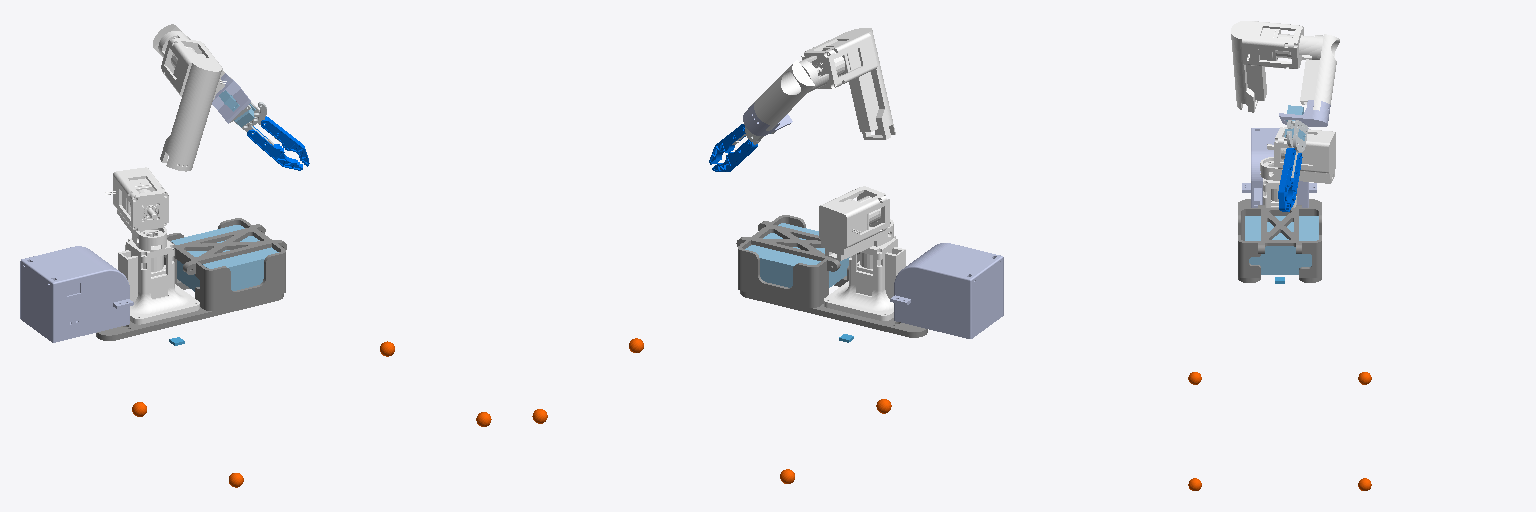
--- Render facts (derived) ---
3 views of the same robot in one strip: view 1: azimuth 30°, elevation 25°; view 2: azimuth 150°, elevation 25°; view 3: azimuth 270°, elevation 25° (orthographic).
Model robot with 23 links and 22 joints (12 revolute, 10 fixed), rooted at base, posed joints at zero except 4 at the middle of their limits (RF_KFE = -1.85, LF_KFE = -1.85, RH_KFE = -1.85, LH_KFE = -1.85).
Visible links, largest first — view 1: arm, link2, link1, gripper, link3; view 2: arm, link2, link1, link3, gripper; view 3: arm, link2, link3, link1, gripper.
Link boxes in pixels (left/top/right/bottom): arm: left=20, top=218, right=286, bottom=342; link2: left=160, top=37, right=226, bottom=171; link1: left=105, top=167, right=168, bottom=251; gripper: left=230, top=102, right=309, bottom=170; link3: left=153, top=24, right=250, bottom=123; arm: left=736, top=215, right=1003, bottom=338; link2: left=801, top=28, right=895, bottom=139; link1: left=819, top=186, right=893, bottom=260; link3: left=743, top=56, right=828, bottom=136; gripper: left=709, top=124, right=775, bottom=171; arm: left=1238, top=128, right=1321, bottom=282; link2: left=1231, top=21, right=1303, bottom=112; link3: left=1279, top=34, right=1339, bottom=126; link1: left=1260, top=127, right=1335, bottom=183; gripper: left=1278, top=120, right=1307, bottom=211.
Size in the robot's own frame: 0.6164 by 0.2735 by 0.5887 metres.
29 mesh visuals loaded from 28 distinct referenced files (22 binary STL); not drawn: 14 (reference not matched to a file when rendering).

The robot description file, URDF, robot "robot":
<?xml version="1.0" ?>
<!-- =================================================================================== -->
<!-- |    This document was autogenerated by xacro from urdf/robot.xacro               | -->
<!-- |    EDITING THIS FILE BY HAND IS NOT RECOMMENDED                                 | -->
<!-- =================================================================================== -->
<robot name="robot">
  <material name="black">
    <color rgba="0.0 0.0 0.0 1.0"/>
  </material>
  <material name="blue">
    <color rgba="0.0 0.0 0.8 1.0"/>
  </material>
  <material name="green">
    <color rgba="0.0 0.8 0.0 1.0"/>
  </material>
  <material name="grey">
    <color rgba="0.2 0.2 0.2 1.0"/>
  </material>
  <material name="silver">
    <color rgba="0.9137254901960784 0.9137254901960784 0.8470588235294118 1.0"/>
  </material>
  <material name="orange">
    <color rgba="1.0 0.4235294117647059 0.0392156862745098 1.0"/>
  </material>
  <material name="brown">
    <color rgba="0.8705882352941177 0.8117647058823529 0.7647058823529411 1.0"/>
  </material>
  <material name="red">
    <color rgba="0.8 0.0 0.0 1.0"/>
  </material>
  <material name="white">
    <color rgba="1.0 1.0 1.0 1.0"/>
  </material>
  <!-- ros_control plugin -->
  <gazebo>
    <plugin filename="liblegged_hw_sim.so" name="gazebo_ros_control">
      <robotNamespace>/</robotNamespace>
      <robotParam>legged_robot_description</robotParam>
      <robotSimType>legged_gazebo/LeggedHWSim</robotSimType>
    </plugin>
  </gazebo>
  <gazebo>
    <plugin filename="libgazebo_ros_p3d.so" name="p3d_base_controller">
      <alwaysOn>true</alwaysOn>
      <updateRate>1000.0</updateRate>
      <bodyName>base</bodyName>
      <topicName>ground_truth/state</topicName>
      <gaussianNoise>0</gaussianNoise>
      <frameName>world</frameName>
      <xyzOffsets>0 0 0</xyzOffsets>
      <rpyOffsets>0 0 0</rpyOffsets>
    </plugin>
  </gazebo>
  <link name="base">
    <visual>
      <origin rpy="0 0 0" xyz="0 0 0"/>
      <geometry>
        <mesh filename="package://biqu_go1_description/go1_meshes/trunk.dae" scale="1 1 1"/>
      </geometry>
    </visual>
    <collision>
      <origin rpy="0 0 0" xyz="0 0 0"/>
      <geometry>
        <box size="0.3762 0.0935 0.114"/>
      </geometry>
    </collision>
    <inertial>
      <origin rpy="0 0 0" xyz="0.0223 0.002 -0.0005"/>
      <mass value="5.204"/>
      <inertia ixx="0.0168128557" ixy="-0.0002296769" ixz="-0.0002945293" iyy="0.063009565" iyz="-4.18731e-05" izz="0.0716547275"/>
    </inertial>
  </link>
  <!-- Imu is fixed to the base link -->
  <joint name="unitree_imu_joint" type="fixed">
    <origin rpy="0. 0. 0." xyz="0. 0. 0."/>
    <parent link="base"/>
    <child link="unitree_imu"/>
  </joint>
  <!-- Imu link -->
  <link name="unitree_imu">
    <inertial>
      <mass value="0.01"/>
      <origin rpy="0 0 0" xyz="0 0 0"/>
      <inertia ixx="0.000001" ixy="0" ixz="0" iyy="0.000001" iyz="0" izz="0.000001"/>
    </inertial>
    <visual>
      <origin rpy="0 0 0" xyz="0 0 0"/>
      <geometry>
        <box size="0.015 0.015 0.004"/>
      </geometry>
    </visual>
    <material name="orange">
      <color rgba="255 108 10 255"/>
    </material>
  </link>
  <gazebo reference="unitree_imu">
    <material>Gazebo/Orange</material>
  </gazebo>
  <gazebo reference="unitree_imu_joint">
    <disableFixedJointLumping>true</disableFixedJointLumping>
  </gazebo>
  <joint name="RF_HAA" type="revolute">
    <origin rpy="0 0 0" xyz="0.1881 -0.04675 0"/>
    <parent link="base"/>
    <child link="RF_hip"/>
    <axis xyz="1 0 0"/>
    <dynamics damping="0.01" friction="0.2"/>
    <limit effort="23.7" lower="-0.863" upper="0.863" velocity="30.1"/>
  </joint>
  <link name="RF_hip">
    <visual>
      <origin rpy="3.141592653589793 0 0" xyz="0 0 0"/>
      <geometry>
        <mesh filename="package://biqu_go1_description/go1_meshes/hip.dae" scale="1 1 1"/>
      </geometry>
      <material name="orange"/>
    </visual>
    <collision>
      <origin rpy="1.5707963267948966 0 0" xyz="0 0 0"/>
      <geometry>
        <cylinder length="0.04" radius="0.046"/>
      </geometry>
    </collision>
    <inertial>
      <origin rpy="0 0 0" xyz="-0.005657 0.008752 -0.000102"/>
      <mass value="0.591"/>
      <inertia ixx="0.000334008405" ixy="1.0826066e-05" ixz="1.290732e-06" iyy="0.000619101213" iyz="-1.643194e-06" izz="0.00040057614"/>
    </inertial>
  </link>
  <joint name="RF_HFE" type="revolute">
    <origin rpy="0 0 0" xyz="0 -0.08 0"/>
    <parent link="RF_hip"/>
    <child link="RF_thigh"/>
    <axis xyz="0 1 0"/>
    <dynamics damping="0.01" friction="0.2"/>
    <limit effort="23.7" lower="-0.686" upper="4.501" velocity="30.1"/>
  </joint>
  <link name="RF_thigh">
    <visual>
      <origin rpy="0 0 0" xyz="0 0 0"/>
      <geometry>
        <mesh filename="package://biqu_go1_description/go1_meshes/thigh_mirror.dae" scale="1 1 1"/>
      </geometry>
      <material name="orange"/>
    </visual>
    <collision>
      <origin rpy="0 1.6707963267948966 0" xyz="-0.015 0 -0.1065"/>
      <geometry>
        <box size="0.213 0.0245 0.034"/>
      </geometry>
    </collision>
    <collision>
      <origin rpy="1.5707963267948966 0 0" xyz="0 0.008 0"/>
      <geometry>
        <cylinder length="0.032" radius="0.041"/>
      </geometry>
    </collision>
    <inertial>
      <origin rpy="0 0 0" xyz="-0.003342 0.018054 -0.033451"/>
      <mass value="0.92"/>
      <inertia ixx="0.004431760472" ixy="-5.7496807e-05" ixz="-0.000218457134" iyy="0.004485671726" iyz="-0.000572001265" izz="0.000740309489"/>
    </inertial>
  </link>
  <joint name="RF_KFE" type="revolute">
    <origin rpy="0 0 0" xyz="0 0 -0.213"/>
    <parent link="RF_thigh"/>
    <child link="RF_calf"/>
    <axis xyz="0 1 0"/>
    <dynamics damping="0.01" friction="0.2"/>
    <limit effort="35.55" lower="-2.818" upper="-0.888" velocity="20.06"/>
  </joint>
  <link name="RF_calf">
    <visual>
      <origin rpy="0 0 0" xyz="0 0 0"/>
      <geometry>
        <mesh filename="package://biqu_go1_description/go1_meshes/calf.dae" scale="1 1 1"/>
      </geometry>
      <material name="orange"/>
    </visual>
    <collision>
      <origin rpy="0 1.5707963267948966 0" xyz="0.0 0 -0.1065"/>
      <geometry>
        <box size="0.213 0.016 0.016"/>
      </geometry>
    </collision>
    <inertial>
      <origin rpy="0 0 0" xyz="0.006197 0.001408 -0.116695"/>
      <mass value="0.135862"/>
      <inertia ixx="0.001088793059" ixy="-2.55679e-07" ixz="7.117814e-06" iyy="0.001100428748" iyz="2.077264e-06" izz="2.4787446e-05"/>
    </inertial>
  </link>
  <joint name="RF_foot_fixed" type="fixed">
    <origin rpy="0 0 0" xyz="0 0 -0.213"/>
    <parent link="RF_calf"/>
    <child link="RF_FOOT"/>
  </joint>
  <link name="RF_FOOT">
    <visual>
      <origin rpy="0 0 0" xyz="0 0 0"/>
      <geometry>
        <sphere radius="0.01"/>
      </geometry>
      <material name="orange"/>
    </visual>
    <collision>
      <origin rpy="0 0 0" xyz="0 0 0"/>
      <geometry>
        <sphere radius="0.02"/>
      </geometry>
    </collision>
    <inertial>
      <mass value="0.06"/>
      <inertia ixx="9.600000000000001e-06" ixy="0.0" ixz="0.0" iyy="9.600000000000001e-06" iyz="0.0" izz="9.600000000000001e-06"/>
    </inertial>
  </link>
  <gazebo reference="RF_foot_fixed">
    <disableFixedJointLumping>true</disableFixedJointLumping>
  </gazebo>
  <gazebo reference="RF_hip">
    <mu1>0.2</mu1>
    <mu2>0.2</mu2>
    <material>Gazebo/DarkGrey</material>
  </gazebo>
  <gazebo reference="RF_thigh">
    <mu1>0.2</mu1>
    <mu2>0.2</mu2>
    <self_collide>0</self_collide>
    <material>Gazebo/DarkGrey</material>
    <kp value="1000000.0"/>
    <kd value="100.0"/>
  </gazebo>
  <gazebo reference="RF_calf">
    <mu1>0.6</mu1>
    <mu2>0.6</mu2>
    <self_collide>1</self_collide>
  </gazebo>
  <gazebo reference="RF_FOOT">
    <mu1>0.6</mu1>
    <mu2>0.6</mu2>
    <self_collide>1</self_collide>
    <material>Gazebo/DarkGrey</material>
    <kp value="1000000.0"/>
    <kd value="100.0"/>
  </gazebo>
  <transmission name="RF_HAA_tran">
    <type>transmission_interface/SimpleTransmission</type>
    <joint name="RF_HAA">
      <hardwareInterface>hardware_interface/EffortJointInterface</hardwareInterface>
    </joint>
    <actuator name="RF_HAA_motor">
      <hardwareInterface>hardware_interface/EffortJointInterface</hardwareInterface>
      <mechanicalReduction>1</mechanicalReduction>
    </actuator>
  </transmission>
  <transmission name="RF_HFE_tran">
    <type>transmission_interface/SimpleTransmission</type>
    <joint name="RF_HFE">
      <hardwareInterface>hardware_interface/EffortJointInterface</hardwareInterface>
    </joint>
    <actuator name="RF_HFE_motor">
      <hardwareInterface>hardware_interface/EffortJointInterface</hardwareInterface>
      <mechanicalReduction>1</mechanicalReduction>
    </actuator>
  </transmission>
  <transmission name="RF_KFE_tran">
    <type>transmission_interface/SimpleTransmission</type>
    <joint name="RF_KFE">
      <hardwareInterface>hardware_interface/EffortJointInterface</hardwareInterface>
    </joint>
    <actuator name="RF_KFE_motor">
      <hardwareInterface>hardware_interface/EffortJointInterface</hardwareInterface>
      <mechanicalReduction>1</mechanicalReduction>
    </actuator>
  </transmission>
  <joint name="LF_HAA" type="revolute">
    <origin rpy="0 0 0" xyz="0.1881 0.04675 0"/>
    <parent link="base"/>
    <child link="LF_hip"/>
    <axis xyz="1 0 0"/>
    <dynamics damping="0.01" friction="0.2"/>
    <limit effort="23.7" lower="-0.863" upper="0.863" velocity="30.1"/>
  </joint>
  <link name="LF_hip">
    <visual>
      <origin rpy="0 0 0" xyz="0 0 0"/>
      <geometry>
        <mesh filename="package://biqu_go1_description/go1_meshes/hip.dae" scale="1 1 1"/>
      </geometry>
      <material name="orange"/>
    </visual>
    <collision>
      <origin rpy="1.5707963267948966 0 0" xyz="0 0 0"/>
      <geometry>
        <cylinder length="0.04" radius="0.046"/>
      </geometry>
    </collision>
    <inertial>
      <origin rpy="0 0 0" xyz="-0.005657 -0.008752 -0.000102"/>
      <mass value="0.591"/>
      <inertia ixx="0.000334008405" ixy="-1.0826066e-05" ixz="1.290732e-06" iyy="0.000619101213" iyz="1.643194e-06" izz="0.00040057614"/>
    </inertial>
  </link>
  <joint name="LF_HFE" type="revolute">
    <origin rpy="0 0 0" xyz="0 0.08 0"/>
    <parent link="LF_hip"/>
    <child link="LF_thigh"/>
    <axis xyz="0 1 0"/>
    <dynamics damping="0.01" friction="0.2"/>
    <limit effort="23.7" lower="-0.686" upper="4.501" velocity="30.1"/>
  </joint>
  <link name="LF_thigh">
    <visual>
      <origin rpy="0 0 0" xyz="0 0 0"/>
      <geometry>
        <mesh filename="package://biqu_go1_description/go1_meshes/thigh.dae" scale="1 1 1"/>
      </geometry>
      <material name="orange"/>
    </visual>
    <collision>
      <origin rpy="0 1.6707963267948966 0" xyz="-0.015 0 -0.1065"/>
      <geometry>
        <box size="0.213 0.0245 0.034"/>
      </geometry>
    </collision>
    <collision>
      <origin rpy="1.5707963267948966 0 0" xyz="0 -0.008 0"/>
      <geometry>
        <cylinder length="0.032" radius="0.041"/>
      </geometry>
    </collision>
    <inertial>
      <origin rpy="0 0 0" xyz="-0.003342 -0.018054 -0.033451"/>
      <mass value="0.92"/>
      <inertia ixx="0.004431760472" ixy="5.7496807e-05" ixz="-0.000218457134" iyy="0.004485671726" iyz="0.000572001265" izz="0.000740309489"/>
    </inertial>
  </link>
  <joint name="LF_KFE" type="revolute">
    <origin rpy="0 0 0" xyz="0 0 -0.213"/>
    <parent link="LF_thigh"/>
    <child link="LF_calf"/>
    <axis xyz="0 1 0"/>
    <dynamics damping="0.01" friction="0.2"/>
    <limit effort="35.55" lower="-2.818" upper="-0.888" velocity="20.06"/>
  </joint>
  <link name="LF_calf">
    <visual>
      <origin rpy="0 0 0" xyz="0 0 0"/>
      <geometry>
        <mesh filename="package://biqu_go1_description/go1_meshes/calf.dae" scale="1 1 1"/>
      </geometry>
      <material name="orange"/>
    </visual>
    <collision>
      <origin rpy="0 1.5707963267948966 0" xyz="0.0 0 -0.1065"/>
      <geometry>
        <box size="0.213 0.016 0.016"/>
      </geometry>
    </collision>
    <inertial>
      <origin rpy="0 0 0" xyz="0.006197 0.001408 -0.116695"/>
      <mass value="0.135862"/>
      <inertia ixx="0.001088793059" ixy="-2.55679e-07" ixz="7.117814e-06" iyy="0.001100428748" iyz="2.077264e-06" izz="2.4787446e-05"/>
    </inertial>
  </link>
  <joint name="LF_foot_fixed" type="fixed">
    <origin rpy="0 0 0" xyz="0 0 -0.213"/>
    <parent link="LF_calf"/>
    <child link="LF_FOOT"/>
  </joint>
  <link name="LF_FOOT">
    <visual>
      <origin rpy="0 0 0" xyz="0 0 0"/>
      <geometry>
        <sphere radius="0.01"/>
      </geometry>
      <material name="orange"/>
    </visual>
    <collision>
      <origin rpy="0 0 0" xyz="0 0 0"/>
      <geometry>
        <sphere radius="0.02"/>
      </geometry>
    </collision>
    <inertial>
      <mass value="0.06"/>
      <inertia ixx="9.600000000000001e-06" ixy="0.0" ixz="0.0" iyy="9.600000000000001e-06" iyz="0.0" izz="9.600000000000001e-06"/>
    </inertial>
  </link>
  <gazebo reference="LF_foot_fixed">
    <disableFixedJointLumping>true</disableFixedJointLumping>
  </gazebo>
  <gazebo reference="LF_hip">
    <mu1>0.2</mu1>
    <mu2>0.2</mu2>
    <material>Gazebo/DarkGrey</material>
  </gazebo>
  <gazebo reference="LF_thigh">
    <mu1>0.2</mu1>
    <mu2>0.2</mu2>
    <self_collide>0</self_collide>
    <material>Gazebo/DarkGrey</material>
    <kp value="1000000.0"/>
    <kd value="100.0"/>
  </gazebo>
  <gazebo reference="LF_calf">
    <mu1>0.6</mu1>
    <mu2>0.6</mu2>
    <self_collide>1</self_collide>
  </gazebo>
  <gazebo reference="LF_FOOT">
    <mu1>0.6</mu1>
    <mu2>0.6</mu2>
    <self_collide>1</self_collide>
    <material>Gazebo/DarkGrey</material>
    <kp value="1000000.0"/>
    <kd value="100.0"/>
  </gazebo>
  <transmission name="LF_HAA_tran">
    <type>transmission_interface/SimpleTransmission</type>
    <joint name="LF_HAA">
      <hardwareInterface>hardware_interface/EffortJointInterface</hardwareInterface>
    </joint>
    <actuator name="LF_HAA_motor">
      <hardwareInterface>hardware_interface/EffortJointInterface</hardwareInterface>
      <mechanicalReduction>1</mechanicalReduction>
    </actuator>
  </transmission>
  <transmission name="LF_HFE_tran">
    <type>transmission_interface/SimpleTransmission</type>
    <joint name="LF_HFE">
      <hardwareInterface>hardware_interface/EffortJointInterface</hardwareInterface>
    </joint>
    <actuator name="LF_HFE_motor">
      <hardwareInterface>hardware_interface/EffortJointInterface</hardwareInterface>
      <mechanicalReduction>1</mechanicalReduction>
    </actuator>
  </transmission>
  <transmission name="LF_KFE_tran">
    <type>transmission_interface/SimpleTransmission</type>
    <joint name="LF_KFE">
      <hardwareInterface>hardware_interface/EffortJointInterface</hardwareInterface>
    </joint>
    <actuator name="LF_KFE_motor">
      <hardwareInterface>hardware_interface/EffortJointInterface</hardwareInterface>
      <mechanicalReduction>1</mechanicalReduction>
    </actuator>
  </transmission>
  <joint name="RH_HAA" type="revolute">
    <origin rpy="0 0 0" xyz="-0.1881 -0.04675 0"/>
    <parent link="base"/>
    <child link="RH_hip"/>
    <axis xyz="1 0 0"/>
    <dynamics damping="0.01" friction="0.2"/>
    <limit effort="23.7" lower="-0.863" upper="0.863" velocity="30.1"/>
  </joint>
  <link name="RH_hip">
    <visual>
      <origin rpy="3.141592653589793 3.141592653589793 0" xyz="0 0 0"/>
      <geometry>
        <mesh filename="package://biqu_go1_description/go1_meshes/hip.dae" scale="1 1 1"/>
      </geometry>
      <material name="orange"/>
    </visual>
    <collision>
      <origin rpy="1.5707963267948966 0 0" xyz="0 0 0"/>
      <geometry>
        <cylinder length="0.04" radius="0.046"/>
      </geometry>
    </collision>
    <inertial>
      <origin rpy="0 0 0" xyz="0.005657 0.008752 -0.000102"/>
      <mass value="0.591"/>
      <inertia ixx="0.000334008405" ixy="-1.0826066e-05" ixz="-1.290732e-06" iyy="0.000619101213" iyz="-1.643194e-06" izz="0.00040057614"/>
    </inertial>
  </link>
  <joint name="RH_HFE" type="revolute">
    <origin rpy="0 0 0" xyz="0 -0.08 0"/>
    <parent link="RH_hip"/>
    <child link="RH_thigh"/>
    <axis xyz="0 1 0"/>
    <dynamics damping="0.01" friction="0.2"/>
    <limit effort="23.7" lower="-0.686" upper="4.501" velocity="30.1"/>
  </joint>
  <link name="RH_thigh">
    <visual>
      <origin rpy="0 0 0" xyz="0 0 0"/>
      <geometry>
        <mesh filename="package://biqu_go1_description/go1_meshes/thigh_mirror.dae" scale="1 1 1"/>
      </geometry>
      <material name="orange"/>
    </visual>
    <collision>
      <origin rpy="0 1.6707963267948966 0" xyz="-0.015 0 -0.1065"/>
      <geometry>
        <box size="0.213 0.0245 0.034"/>
      </geometry>
    </collision>
    <collision>
      <origin rpy="1.5707963267948966 0 0" xyz="0 0.008 0"/>
      <geometry>
        <cylinder length="0.032" radius="0.041"/>
      </geometry>
    </collision>
    <inertial>
      <origin rpy="0 0 0" xyz="-0.003342 0.018054 -0.033451"/>
      <mass value="0.92"/>
      <inertia ixx="0.004431760472" ixy="-5.7496807e-05" ixz="-0.000218457134" iyy="0.004485671726" iyz="-0.000572001265" izz="0.000740309489"/>
    </inertial>
  </link>
  <joint name="RH_KFE" type="revolute">
    <origin rpy="0 0 0" xyz="0 0 -0.213"/>
    <parent link="RH_thigh"/>
    <child link="RH_calf"/>
    <axis xyz="0 1 0"/>
    <dynamics damping="0.01" friction="0.2"/>
    <limit effort="35.55" lower="-2.818" upper="-0.888" velocity="20.06"/>
  </joint>
  <link name="RH_calf">
    <visual>
      <origin rpy="0 0 0" xyz="0 0 0"/>
      <geometry>
        <mesh filename="package://biqu_go1_description/go1_meshes/calf.dae" scale="1 1 1"/>
      </geometry>
      <material name="orange"/>
    </visual>
    <collision>
      <origin rpy="0 1.5707963267948966 0" xyz="0.0 0 -0.1065"/>
      <geometry>
        <box size="0.213 0.016 0.016"/>
      </geometry>
    </collision>
    <inertial>
      <origin rpy="0 0 0" xyz="0.006197 0.001408 -0.116695"/>
      <mass value="0.135862"/>
      <inertia ixx="0.001088793059" ixy="-2.55679e-07" ixz="7.117814e-06" iyy="0.001100428748" iyz="2.077264e-06" izz="2.4787446e-05"/>
    </inertial>
  </link>
  <joint name="RH_foot_fixed" type="fixed">
    <origin rpy="0 0 0" xyz="0 0 -0.213"/>
    <parent link="RH_calf"/>
    <child link="RH_FOOT"/>
  </joint>
  <link name="RH_FOOT">
    <visual>
      <origin rpy="0 0 0" xyz="0 0 0"/>
      <geometry>
        <sphere radius="0.01"/>
      </geometry>
      <material name="orange"/>
    </visual>
    <collision>
      <origin rpy="0 0 0" xyz="0 0 0"/>
      <geometry>
        <sphere radius="0.02"/>
      </geometry>
    </collision>
    <inertial>
      <mass value="0.06"/>
      <inertia ixx="9.600000000000001e-06" ixy="0.0" ixz="0.0" iyy="9.600000000000001e-06" iyz="0.0" izz="9.600000000000001e-06"/>
    </inertial>
  </link>
  <gazebo reference="RH_foot_fixed">
    <disableFixedJointLumping>true</disableFixedJointLumping>
  </gazebo>
  <gazebo reference="RH_hip">
    <mu1>0.2</mu1>
    <mu2>0.2</mu2>
    <material>Gazebo/DarkGrey</material>
  </gazebo>
  <gazebo reference="RH_thigh">
    <mu1>0.2</mu1>
    <mu2>0.2</mu2>
    <self_collide>0</self_collide>
    <material>Gazebo/DarkGrey</material>
    <kp value="1000000.0"/>
    <kd value="100.0"/>
  </gazebo>
  <gazebo reference="RH_calf">
    <mu1>0.6</mu1>
    <mu2>0.6</mu2>
    <self_collide>1</self_collide>
  </gazebo>
  <gazebo reference="RH_FOOT">
    <mu1>0.6</mu1>
    <mu2>0.6</mu2>
    <self_collide>1</self_collide>
    <material>Gazebo/DarkGrey</material>
    <kp value="1000000.0"/>
    <kd value="100.0"/>
  </gazebo>
  <transmission name="RH_HAA_tran">
    <type>transmission_interface/SimpleTransmission</type>
    <joint name="RH_HAA">
      <hardwareInterface>hardware_interface/EffortJointInterface</hardwareInterface>
    </joint>
    <actuator name="RH_HAA_motor">
      <hardwareInterface>hardware_interface/EffortJointInterface</hardwareInterface>
      <mechanicalReduction>1</mechanicalReduction>
    </actuator>
  </transmission>
  <transmission name="RH_HFE_tran">
    <type>transmission_interface/SimpleTransmission</type>
    <joint name="RH_HFE">
      <hardwareInterface>hardware_interface/EffortJointInterface</hardwareInterface>
    </joint>
    <actuator name="RH_HFE_motor">
      <hardwareInterface>hardware_interface/EffortJointInterface</hardwareInterface>
      <mechanicalReduction>1</mechanicalReduction>
    </actuator>
  </transmission>
  <transmission name="RH_KFE_tran">
    <type>transmission_interface/SimpleTransmission</type>
    <joint name="RH_KFE">
      <hardwareInterface>hardware_interface/EffortJointInterface</hardwareInterface>
    </joint>
    <actuator name="RH_KFE_motor">
      <hardwareInterface>hardware_interface/EffortJointInterface</hardwareInterface>
      <mechanicalReduction>1</mechanicalReduction>
    </actuator>
  </transmission>
  <joint name="LH_HAA" type="revolute">
    <origin rpy="0 0 0" xyz="-0.1881 0.04675 0"/>
    <parent link="base"/>
    <child link="LH_hip"/>
    <axis xyz="1 0 0"/>
    <dynamics damping="0.01" friction="0.2"/>
    <limit effort="23.7" lower="-0.863" upper="0.863" velocity="30.1"/>
  </joint>
  <link name="LH_hip">
    <visual>
      <origin rpy="0 3.141592653589793 0" xyz="0 0 0"/>
      <geometry>
        <mesh filename="package://biqu_go1_description/go1_meshes/hip.dae" scale="1 1 1"/>
      </geometry>
      <material name="orange"/>
    </visual>
    <collision>
      <origin rpy="1.5707963267948966 0 0" xyz="0 0 0"/>
      <geometry>
        <cylinder length="0.04" radius="0.046"/>
      </geometry>
    </collision>
    <inertial>
      <origin rpy="0 0 0" xyz="0.005657 -0.008752 -0.000102"/>
      <mass value="0.591"/>
      <inertia ixx="0.000334008405" ixy="1.0826066e-05" ixz="-1.290732e-06" iyy="0.000619101213" iyz="1.643194e-06" izz="0.00040057614"/>
    </inertial>
  </link>
  <joint name="LH_HFE" type="revolute">
    <origin rpy="0 0 0" xyz="0 0.08 0"/>
    <parent link="LH_hip"/>
    <child link="LH_thigh"/>
    <axis xyz="0 1 0"/>
    <dynamics damping="0.01" friction="0.2"/>
    <limit effort="23.7" lower="-0.686" upper="4.501" velocity="30.1"/>
  </joint>
  <link name="LH_thigh">
    <visual>
      <origin rpy="0 0 0" xyz="0 0 0"/>
      <geometry>
        <mesh filename="package://biqu_go1_description/go1_meshes/thigh.dae" scale="1 1 1"/>
      </geometry>
      <material name="orange"/>
    </visual>
    <collision>
      <origin rpy="0 1.6707963267948966 0" xyz="-0.015 0 -0.1065"/>
      <geometry>
        <box size="0.213 0.0245 0.034"/>
      </geometry>
    </collision>
    <collision>
      <origin rpy="1.5707963267948966 0 0" xyz="0 -0.008 0"/>
      <geometry>
        <cylinder length="0.032" radius="0.041"/>
      </geometry>
    </collision>
    <inertial>
      <origin rpy="0 0 0" xyz="-0.003342 -0.018054 -0.033451"/>
      <mass value="0.92"/>
      <inertia ixx="0.004431760472" ixy="5.7496807e-05" ixz="-0.000218457134" iyy="0.004485671726" iyz="0.000572001265" izz="0.000740309489"/>
    </inertial>
  </link>
  <joint name="LH_KFE" type="revolute">
    <origin rpy="0 0 0" xyz="0 0 -0.213"/>
    <parent link="LH_thigh"/>
    <child link="LH_calf"/>
    <axis xyz="0 1 0"/>
    <dynamics damping="0.01" friction="0.2"/>
    <limit effort="35.55" lower="-2.818" upper="-0.888" velocity="20.06"/>
  </joint>
  <link name="LH_calf">
    <visual>
      <origin rpy="0 0 0" xyz="0 0 0"/>
      <geometry>
        <mesh filename="package://biqu_go1_description/go1_meshes/calf.dae" scale="1 1 1"/>
      </geometry>
      <material name="orange"/>
    </visual>
    <collision>
      <origin rpy="0 1.5707963267948966 0" xyz="0.0 0 -0.1065"/>
      <geometry>
        <box size="0.213 0.016 0.016"/>
      </geometry>
    </collision>
    <inertial>
      <origin rpy="0 0 0" xyz="0.006197 0.001408 -0.116695"/>
      <mass value="0.135862"/>
      <inertia ixx="0.001088793059" ixy="-2.55679e-07" ixz="7.117814e-06" iyy="0.001100428748" iyz="2.077264e-06" izz="2.4787446e-05"/>
    </inertial>
  </link>
  <joint name="LH_foot_fixed" type="fixed">
    <origin rpy="0 0 0" xyz="0 0 -0.213"/>
    <parent link="LH_calf"/>
    <child link="LH_FOOT"/>
  </joint>
  <link name="LH_FOOT">
    <visual>
      <origin rpy="0 0 0" xyz="0 0 0"/>
      <geometry>
        <sphere radius="0.01"/>
      </geometry>
      <material name="orange"/>
    </visual>
    <collision>
      <origin rpy="0 0 0" xyz="0 0 0"/>
      <geometry>
        <sphere radius="0.02"/>
      </geometry>
    </collision>
    <inertial>
      <mass value="0.06"/>
      <inertia ixx="9.600000000000001e-06" ixy="0.0" ixz="0.0" iyy="9.600000000000001e-06" iyz="0.0" izz="9.600000000000001e-06"/>
    </inertial>
  </link>
  <gazebo reference="LH_foot_fixed">
    <disableFixedJointLumping>true</disableFixedJointLumping>
  </gazebo>
  <gazebo reference="LH_hip">
    <mu1>0.2</mu1>
    <mu2>0.2</mu2>
    <material>Gazebo/DarkGrey</material>
  </gazebo>
  <gazebo reference="LH_thigh">
    <mu1>0.2</mu1>
    <mu2>0.2</mu2>
    <self_collide>0</self_collide>
    <material>Gazebo/DarkGrey</material>
    <kp value="1000000.0"/>
    <kd value="100.0"/>
  </gazebo>
  <gazebo reference="LH_calf">
    <mu1>0.6</mu1>
    <mu2>0.6</mu2>
    <self_collide>1</self_collide>
  </gazebo>
  <gazebo reference="LH_FOOT">
    <mu1>0.6</mu1>
    <mu2>0.6</mu2>
    <self_collide>1</self_collide>
    <material>Gazebo/DarkGrey</material>
    <kp value="1000000.0"/>
    <kd value="100.0"/>
  </gazebo>
  <transmission name="LH_HAA_tran">
    <type>transmission_interface/SimpleTransmission</type>
    <joint name="LH_HAA">
      <hardwareInterface>hardware_interface/EffortJointInterface</hardwareInterface>
    </joint>
    <actuator name="LH_HAA_motor">
      <hardwareInterface>hardware_interface/EffortJointInterface</hardwareInterface>
      <mechanicalReduction>1</mechanicalReduction>
    </actuator>
  </transmission>
  <transmission name="LH_HFE_tran">
    <type>transmission_interface/SimpleTransmission</type>
    <joint name="LH_HFE">
      <hardwareInterface>hardware_interface/EffortJointInterface</hardwareInterface>
    </joint>
    <actuator name="LH_HFE_motor">
      <hardwareInterface>hardware_interface/EffortJointInterface</hardwareInterface>
      <mechanicalReduction>1</mechanicalReduction>
    </actuator>
  </transmission>
  <transmission name="LH_KFE_tran">
    <type>transmission_interface/SimpleTransmission</type>
    <joint name="LH_KFE">
      <hardwareInterface>hardware_interface/EffortJointInterface</hardwareInterface>
    </joint>
    <actuator name="LH_KFE_motor">
      <hardwareInterface>hardware_interface/EffortJointInterface</hardwareInterface>
      <mechanicalReduction>1</mechanicalReduction>
    </actuator>
  </transmission>
<link name="arm">
<visual>
<origin xyz="-0.043000000000000093703 -0.056249572745411466346 0.053674572697836049617" rpy="1.570796326794896558 6.9388939039074071039e-18 -2.0296264668928948688e-16" />
<geometry>
<mesh filename="package://biqu_go1_description/arm_meshes/batterycover.stl"/>
</geometry>
<material name="batterycover_material">
<color rgba="0.79607843137254896693 0.82352941176470584317 0.9372549019607843146 1.0"/>
</material>
</visual>
<collision>
<origin xyz="-0.043000000000000093703 -0.056249572745411466346 0.053674572697836049617" rpy="1.570796326794896558 6.9388939039074071039e-18 -2.0296264668928948688e-16" />
<geometry>
<mesh filename="package://biqu_go1_description/arm_meshes/batterycover.stl"/>
</geometry>
</collision>
<visual>
<origin xyz="0.027999999999999969358 0.045620425736449282672 -0.0078254274213730105197" rpy="-1.570796326794896558 -0 -1.570796326794896558" />
<geometry>
<mesh filename="package://biqu_go1_description/arm_meshes/bar.stl"/>
</geometry>
<material name="bar_material">
<color rgba="0.62745098039215685404 0.62745098039215685404 0.62745098039215685404 1.0"/>
</material>
</visual>
<collision>
<origin xyz="0.027999999999999969358 0.045620425736449282672 -0.0078254274213730105197" rpy="-1.570796326794896558 -0 -1.570796326794896558" />
<geometry>
<mesh filename="package://biqu_go1_description/arm_meshes/bar.stl"/>
</geometry>
</collision>
<visual>
<origin xyz="-0.045499999999999984901 0.18587042725458807757 0.00017457269783627965554" rpy="-1.570796326794896558 -0 -1.570796326794896558" />
<geometry>
<mesh filename="package://biqu_go1_description/arm_meshes/nuc_enclosure_right_v8.step.stl"/>
</geometry>
<material name="nuc_enclosure_right_v8.step_material">
<color rgba="0.62745098039215685404 0.62745098039215685404 0.62745098039215685404 1.0"/>
</material>
</visual>
<collision>
<origin xyz="-0.045499999999999984901 0.18587042725458807757 0.00017457269783627965554" rpy="-1.570796326794896558 -0 -1.570796326794896558" />
<geometry>
<mesh filename="package://biqu_go1_description/arm_meshes/nuc_enclosure_right_v8.step.stl"/>
</geometry>
</collision>
<visual>
<origin xyz="-0.029000000000002121303 0.050370427254587735177 0.059174572697836602675" rpy="1.570796326794896558 9.0105057071027178548e-17 1.570796326794896558" />
<geometry>
<mesh filename="package://biqu_go1_description/arm_meshes/cap.stl"/>
</geometry>
<material name="cap_material">
<color rgba="0.62745098039215685404 0.62745098039215685404 0.62745098039215685404 1.0"/>
</material>
</visual>
<collision>
<origin xyz="-0.029000000000002121303 0.050370427254587735177 0.059174572697836602675" rpy="1.570796326794896558 9.0105057071027178548e-17 1.570796326794896558" />
<geometry>
<mesh filename="package://biqu_go1_description/arm_meshes/cap.stl"/>
</geometry>
</collision>
<visual>
<origin xyz="-9.0000000000006741274e-05 -0.001039572745412595256 0.037174572697836277824" rpy="-1.570796326794896558 -0 0" />
<geometry>
<mesh filename="package://biqu_go1_description/arm_meshes/motor.stl"/>
</geometry>
<material name="motor_material">
<color rgba="1 1 1 1.0"/>
</material>
</visual>
<collision>
<origin xyz="-9.0000000000006741274e-05 -0.001039572745412595256 0.037174572697836277824" rpy="-1.570796326794896558 -0 0" />
<geometry>
<mesh filename="package://biqu_go1_description/arm_meshes/motor.stl"/>
</geometry>
</collision>
<visual>
<origin xyz="0.045500000000000005718 0.037870427254587731014 0.00017457269783625623677" rpy="-1.570796326794896558 -2.2204460492410355836e-16 1.57079632679489678" />
<geometry>
<mesh filename="package://biqu_go1_description/arm_meshes/nuc_enclosure_left_v27.step.stl"/>
</geometry>
<material name="nuc_enclosure_left_v27.step_material">
<color rgba="0.62745098039215685404 0.62745098039215685404 0.62745098039215685404 1.0"/>
</material>
</visual>
<collision>
<origin xyz="0.045500000000000005718 0.037870427254587731014 0.00017457269783625623677" rpy="-1.570796326794896558 -2.2204460492410355836e-16 1.57079632679489678" />
<geometry>
<mesh filename="package://biqu_go1_description/arm_meshes/nuc_enclosure_left_v27.step.stl"/>
</geometry>
</collision>
<visual>
<origin xyz="0 -0.001129572745412591589 0.00017457269783627965554" rpy="0 -0 0" />
<geometry>
<mesh filename="package://biqu_go1_description/arm_meshes/base.stl"/>
</geometry>
<material name="base_material">
<color rgba="1 1 1 1.0"/>
</material>
</visual>
<collision>
<origin xyz="0 -0.001129572745412591589 0.00017457269783627965554" rpy="0 -0 0" />
<geometry>
<mesh filename="package://biqu_go1_description/arm_meshes/base.stl"/>
</geometry>
</collision>
<visual>
<origin xyz="-0.0030000000000000581757 0.11587042725458805703 0.0041745726978362797388" rpy="0 -0 -1.2325951644077898923e-32" />
<geometry>
<mesh filename="package://biqu_go1_description/arm_meshes/nuc.stl"/>
</geometry>
<material name="nuc_material">
<color rgba="0.61568627450980395466 0.81176470588235294379 0.92941176470588238168 1.0"/>
</material>
</visual>
<collision>
<origin xyz="-0.0030000000000000581757 0.11587042725458805703 0.0041745726978362797388" rpy="0 -0 -1.2325951644077898923e-32" />
<geometry>
<mesh filename="package://biqu_go1_description/arm_meshes/nuc.stl"/>
</geometry>
</collision>
<visual>
<origin xyz="-0.063000000000000000444 0.045620425736449157772 -0.0078254274213730122545" rpy="-1.570796326794896558 -0 -1.570796326794896558" />
<geometry>
<mesh filename="package://biqu_go1_description/arm_meshes/bar.stl"/>
</geometry>
<material name="bar_material">
<color rgba="0.62745098039215685404 0.62745098039215685404 0.62745098039215685404 1.0"/>
</material>
</visual>
<collision>
<origin xyz="-0.063000000000000000444 0.045620425736449157772 -0.0078254274213730122545" rpy="-1.570796326794896558 -0 -1.570796326794896558" />
<geometry>
<mesh filename="package://biqu_go1_description/arm_meshes/bar.stl"/>
</geometry>
</collision>
<visual>
<origin xyz="-0.040500000000000015155 -0.056249572745412590447 0.053674572697836375745" rpy="1.570796326794896558 1.5919291637703030189e-31 1.3010426069826006369e-16" />
<geometry>
<mesh filename="package://biqu_go1_description/arm_meshes/batterybox.stl"/>
</geometry>
<material name="batterybox_material">
<color rgba="0.79607843137254896693 0.82352941176470584317 0.9372549019607843146 1.0"/>
</material>
</visual>
<collision>
<origin xyz="-0.040500000000000015155 -0.056249572745412590447 0.053674572697836375745" rpy="1.570796326794896558 1.5919291637703030189e-31 1.3010426069826006369e-16" />
<geometry>
<mesh filename="package://biqu_go1_description/arm_meshes/batterybox.stl"/>
</geometry>
</collision>
<visual>
<origin xyz="0 -0.001129572745412591589 0.078174572697836286483" rpy="0 -0 0" />
<geometry>
<mesh filename="package://biqu_go1_description/arm_meshes/base2.stl"/>
</geometry>
<material name="base2_material">
<color rgba="1 1 1 1.0"/>
</material>
</visual>
<collision>
<origin xyz="0 -0.001129572745412591589 0.078174572697836286483" rpy="0 -0 0" />
<geometry>
<mesh filename="package://biqu_go1_description/arm_meshes/base2.stl"/>
</geometry>
</collision>
<inertial>
<origin xyz="-0.00094862752882530869403 0.042039439754247905079 0.02874026670072112391" rpy="0 0 0"/>
<mass value="2.9819518087274810014" />
<inertia ixx="0.028563426842572840758" ixy="0.00053767167140223142818"  ixz="3.2108459365490719234e-05" iyy="0.0044211640677897286883" iyz="0.0005040806111046927402" izz="0.030089818410769811341" />
</inertial>
</link>

<link name="link1">
<visual>
<origin xyz="-0.0054332708436385518391 -1.7564075194265171831e-17 -0.033000000000000001554" rpy="3.141592653589793116 -0 -1.5265782411869662363e-17" />
<geometry>
<mesh filename="package://biqu_go1_description/arm_meshes/link1.stl"/>
</geometry>
<material name="link1_material">
<color rgba="1 1 1 1.0"/>
</material>
</visual>
<collision>
<origin xyz="-0.0054332708436385518391 -1.7564075194265171831e-17 -0.033000000000000001554" rpy="3.141592653589793116 -0 -1.5265782411869662363e-17" />
<geometry>
<mesh filename="package://biqu_go1_description/arm_meshes/link1.stl"/>
</geometry>
</collision>
<visual>
<origin xyz="-0.0054332708436385518391 -1.7564075194265171831e-17 -0.033000000000000001554" rpy="3.141592653589793116 -1.570796326794896558 0" />
<geometry>
<mesh filename="package://biqu_go1_description/arm_meshes/base2.stl"/>
</geometry>
<material name="base2_material">
<color rgba="1 1 1 1.0"/>
</material>
</visual>
<collision>
<origin xyz="-0.0054332708436385518391 -1.7564075194265171831e-17 -0.033000000000000001554" rpy="3.141592653589793116 -1.570796326794896558 0" />
<geometry>
<mesh filename="package://biqu_go1_description/arm_meshes/base2.stl"/>
</geometry>
</collision>
<visual>
<origin xyz="-0.046433270843638380088 9.0000000000024088509e-05 -0.033089999999999925029" rpy="1.570796326794896558 -1.5707963267948961139 0" />
<geometry>
<mesh filename="package://biqu_go1_description/arm_meshes/motor.stl"/>
</geometry>
<material name="motor_material">
<color rgba="1 1 1 1.0"/>
</material>
</visual>
<collision>
<origin xyz="-0.046433270843638380088 9.0000000000024088509e-05 -0.033089999999999925029" rpy="1.570796326794896558 -1.5707963267948961139 0" />
<geometry>
<mesh filename="package://biqu_go1_description/arm_meshes/motor.stl"/>
</geometry>
</collision>
<inertial>
<origin xyz="-0.040852211317392729539 8.6609206749093103081e-05 -0.029620937758826369757" rpy="0 0 0"/>
<mass value="0.64328124355788018907" />
<inertia ixx="0.0002449200641864007484" ixy="2.3827050373876424334e-07"  ixz="-2.102663081365386058e-05" iyy="0.00050526449070353190475" iyz="1.93588620686335655e-07" izz="0.00044515132695697242227" />
</inertial>
</link>

<link name="link2">
<visual>
<origin xyz="-0.20499999999999801714 -4.8572257327350598644e-16 0.05999999999999967859" rpy="-1.2137888792318470409e-15 -1.570796326794896558 0" />
<geometry>
<mesh filename="package://biqu_go1_description/arm_meshes/link2.2.stl"/>
</geometry>
<material name="link2.2_material">
<color rgba="1 1 1 1.0"/>
</material>
</visual>
<collision>
<origin xyz="-0.20499999999999801714 -4.8572257327350598644e-16 0.05999999999999967859" rpy="-1.2137888792318470409e-15 -1.570796326794896558 0" />
<geometry>
<mesh filename="package://biqu_go1_description/arm_meshes/link2.2.stl"/>
</geometry>
</collision>
<visual>
<origin xyz="-0.20499999999999812816 -4.2327252813834093104e-16 0.059999999999999685529" rpy="2.4893298511732086215e-16 6.0581801939752800655e-16 3.1415926535897926719" />
<geometry>
<mesh filename="package://biqu_go1_description/arm_meshes/base2.stl"/>
</geometry>
<material name="base2_material">
<color rgba="1 1 1 1.0"/>
</material>
</visual>
<collision>
<origin xyz="-0.20499999999999812816 -4.2327252813834093104e-16 0.059999999999999685529" rpy="2.4893298511732086215e-16 6.0581801939752800655e-16 3.1415926535897926719" />
<geometry>
<mesh filename="package://biqu_go1_description/arm_meshes/base2.stl"/>
</geometry>
</collision>
<visual>
<origin xyz="2.7755575615628913511e-17 6.9388939039072283776e-18 0.020000000000000003886" rpy="1.570796326794896558 1.570796326794896558 0" />
<geometry>
<mesh filename="package://biqu_go1_description/arm_meshes/link2.stl"/>
</geometry>
<material name="link2_material">
<color rgba="1 1 1 1.0"/>
</material>
</visual>
<collision>
<origin xyz="2.7755575615628913511e-17 6.9388939039072283776e-18 0.020000000000000003886" rpy="1.570796326794896558 1.570796326794896558 0" />
<geometry>
<mesh filename="package://biqu_go1_description/arm_meshes/link2.stl"/>
</geometry>
</collision>
<visual>
<origin xyz="-0.20508999999999993902 8.9999999999472446444e-05 0.019000000000000374228" rpy="-1.570796326794896558 1.0122583203283967912e-15 -1.1794672002304914752e-15" />
<geometry>
<mesh filename="package://biqu_go1_description/arm_meshes/motor.stl"/>
</geometry>
<material name="motor_material">
<color rgba="1 1 1 1.0"/>
</material>
</visual>
<collision>
<origin xyz="-0.20508999999999993902 8.9999999999472446444e-05 0.019000000000000374228" rpy="-1.570796326794896558 1.0122583203283967912e-15 -1.1794672002304914752e-15" />
<geometry>
<mesh filename="package://biqu_go1_description/arm_meshes/motor.stl"/>
</geometry>
</collision>
<inertial>
<origin xyz="-0.17328672464564939815 4.183619830649827452e-05 0.010341353672720928619" rpy="0 0 0"/>
<mass value="0.84537208634905847138" />
<inertia ixx="0.00076159907830105830207" ixy="1.2481861267342365719e-06"  ixz="0.00070910741547682248735" iyy="0.0037852674027457878202" iyz="-6.6015902025999712907e-07" izz="0.0032510342013547530518" />
</inertial>
</link>

<link name="link3">
<visual>
<origin xyz="-0.092500000000000845435 1.5543122344752191566e-15 0.014999999999999534539" rpy="1.5707963267948958919 -1.5553548128009674369e-15 -1.5707963267948972241" />
<geometry>
<mesh filename="package://biqu_go1_description/arm_meshes/servo.stl"/>
</geometry>
<material name="servo_material">
<color rgba="0.61568627450980395466 0.81176470588235294379 0.92941176470588238168 1.0"/>
</material>
</visual>
<collision>
<origin xyz="-0.092500000000000845435 1.5543122344752191566e-15 0.014999999999999534539" rpy="1.5707963267948958919 -1.5553548128009674369e-15 -1.5707963267948972241" />
<geometry>
<mesh filename="package://biqu_go1_description/arm_meshes/servo.stl"/>
</geometry>
</collision>
<visual>
<origin xyz="2.7755575615628913511e-17 0 0.020000000000000010825" rpy="1.57079632679489678 1.570796326794896558 0" />
<geometry>
<mesh filename="package://biqu_go1_description/arm_meshes/link3.stl"/>
</geometry>
<material name="link3_material">
<color rgba="1 1 1 1.0"/>
</material>
</visual>
<collision>
<origin xyz="2.7755575615628913511e-17 0 0.020000000000000010825" rpy="1.57079632679489678 1.570796326794896558 0" />
<geometry>
<mesh filename="package://biqu_go1_description/arm_meshes/link3.stl"/>
</geometry>
</collision>
<visual>
<origin xyz="-0.10180032389301382767 0.015480877538495141366 -9.4974788687557376576e-05" rpy="4.3016806582246644288e-14 -1.5707963267948166219 0" />
<geometry>
<mesh filename="package://biqu_go1_description/arm_meshes/gripperlink2.stl"/>
</geometry>
<material name="gripperlink2_material">
<color rgba="0.79607843137254896693 0.82352941176470584317 0.9372549019607843146 1.0"/>
</material>
</visual>
<collision>
<origin xyz="-0.10180032389301382767 0.015480877538495141366 -9.4974788687557376576e-05" rpy="4.3016806582246644288e-14 -1.5707963267948166219 0" />
<geometry>
<mesh filename="package://biqu_go1_description/arm_meshes/gripperlink2.stl"/>
</geometry>
</collision>
<visual>
<origin xyz="-0.10180032389301330031 0.015480877538495224632 -9.4974788687640643303e-05" rpy="4.7133166719546065429e-14 -1.5707963267948155117 0" />
<geometry>
<mesh filename="package://biqu_go1_description/arm_meshes/gripperlink1.stl"/>
</geometry>
<material name="gripperlink1_material">
<color rgba="0.79607843137254896693 0.82352941176470584317 0.9372549019607843146 1.0"/>
</material>
</visual>
<collision>
<origin xyz="-0.10180032389301330031 0.015480877538495224632 -9.4974788687640643303e-05" rpy="4.7133166719546065429e-14 -1.5707963267948155117 0" />
<geometry>
<mesh filename="package://biqu_go1_description/arm_meshes/gripperlink1.stl"/>
</geometry>
</collision>
<inertial>
<origin xyz="-0.059154639552925582235 -4.1652120917699786521e-06 -0.013202620155315092365" rpy="0 0 0"/>
<mass value="0.16572118754875830859" />
<inertia ixx="5.6397743731799028998e-05" ixy="2.2988205287659273953e-08"  ixz="9.0423920884201157601e-06" iyy="0.00029479933518177962393" iyz="1.60670726097580851e-08" izz="0.00027850551732600084846" />
</inertial>
</link>

<link name="gripper">
<visual>
<origin xyz="0.00067499999999989790389 -0.0040000000000002811085 -0.016499999999999848121" rpy="3.141592653589793116 -2.6886223288726292837e-15 3.1415926535897691352" />
<geometry>
<mesh filename="package://biqu_go1_description/arm_meshes/gripper_4.stl"/>
</geometry>
<material name="gripper_4_material">
<color rgba="0.89411764705882357251 0.91372549019607840481 0.92941176470588238168 1.0"/>
</material>
</visual>
<collision>
<origin xyz="0.00067499999999989790389 -0.0040000000000002811085 -0.016499999999999848121" rpy="3.141592653589793116 -2.6886223288726292837e-15 3.1415926535897691352" />
<geometry>
<mesh filename="package://biqu_go1_description/arm_meshes/gripper_4.stl"/>
</geometry>
</collision>
<visual>
<origin xyz="-0.0078250000000000818901 -0.0040000000000001423306 -0.032499999999999779066" rpy="0.094984357307938374615 -2.818051666908969439e-16 1.5707963267948961139" />
<geometry>
<mesh filename="package://biqu_go1_description/arm_meshes/gripper_2.stl"/>
</geometry>
<material name="gripper_2_material">
<color rgba="0.89411764705882357251 0.91372549019607840481 0.92941176470588238168 1.0"/>
</material>
</visual>
<collision>
<origin xyz="-0.0078250000000000818901 -0.0040000000000001423306 -0.032499999999999779066" rpy="0.094984357307938374615 -2.818051666908969439e-16 1.5707963267948961139" />
<geometry>
<mesh filename="package://biqu_go1_description/arm_meshes/gripper_2.stl"/>
</geometry>
</collision>
<visual>
<origin xyz="-0.00076017147315771138594 -0.0015000000000007507328 -0.047649123529255869858" rpy="3.1415926535897922278 0.094984357307933767189 -2.6979513969416627637e-14" />
<geometry>
<mesh filename="package://biqu_go1_description/arm_meshes/gripper_3.stl"/>
</geometry>
<material name="gripper_3_material">
<color rgba="0 0.50196078431372548323 1 1.0"/>
</material>
</visual>
<collision>
<origin xyz="-0.00076017147315771138594 -0.0015000000000007507328 -0.047649123529255869858" rpy="3.1415926535897922278 0.094984357307933767189 -2.6979513969416627637e-14" />
<geometry>
<mesh filename="package://biqu_go1_description/arm_meshes/gripper_3.stl"/>
</geometry>
</collision>
<visual>
<origin xyz="9.0971822251845191332e-05 -0.0015000000000004731771 -0.046531684784240717745" rpy="-3.1415926535897926719 -0.043187700240528231754 3.1415926535897664706" />
<geometry>
<mesh filename="package://biqu_go1_description/arm_meshes/gripper_3.stl"/>
</geometry>
<material name="gripper_3_material">
<color rgba="0 0.50196078431372548323 1 1.0"/>
</material>
</visual>
<collision>
<origin xyz="9.0971822251845191332e-05 -0.0015000000000004731771 -0.046531684784240717745" rpy="-3.1415926535897926719 -0.043187700240528231754 3.1415926535897664706" />
<geometry>
<mesh filename="package://biqu_go1_description/arm_meshes/gripper_3.stl"/>
</geometry>
</collision>
<visual>
<origin xyz="0.00067499999999995341504 0.0089999999999998969713 -0.016499999999999848121" rpy="-3.141592653589793116 -3.1341729464866167256e-15 3.1415926535897691352" />
<geometry>
<mesh filename="package://biqu_go1_description/arm_meshes/gripper_5.stl"/>
</geometry>
<material name="gripper_5_material">
<color rgba="0.89411764705882357251 0.91372549019607840481 0.92941176470588238168 1.0"/>
</material>
</visual>
<collision>
<origin xyz="0.00067499999999995341504 0.0089999999999998969713 -0.016499999999999848121" rpy="-3.141592653589793116 -3.1341729464866167256e-15 3.1415926535897691352" />
<geometry>
<mesh filename="package://biqu_go1_description/arm_meshes/gripper_5.stl"/>
</geometry>
</collision>
<visual>
<origin xyz="-5.5511151231257827021e-17 0 -0.0011238668575307142472" rpy="-1.570796326794896558 -1.537093985394676151e-17 6.1870996271311447769e-17" />
<geometry>
<mesh filename="package://biqu_go1_description/arm_meshes/gripper_8.stl"/>
</geometry>
<material name="gripper_8_material">
<color rgba="0.90196078431372550543 0.92156862745098033773 0.92941176470588238168 1.0"/>
</material>
</visual>
<collision>
<origin xyz="-5.5511151231257827021e-17 0 -0.0011238668575307142472" rpy="-1.570796326794896558 -1.537093985394676151e-17 6.1870996271311447769e-17" />
<geometry>
<mesh filename="package://biqu_go1_description/arm_meshes/gripper_8.stl"/>
</geometry>
</collision>
<visual>
<origin xyz="0.0091750000000002940315 -0.0040000000000006141754 -0.032499999999999910905" rpy="0.043187700240529459939 -3.5932039344207654432e-16 1.57079632679489678" />
<geometry>
<mesh filename="package://biqu_go1_description/arm_meshes/gripper_1.stl"/>
</geometry>
<material name="gripper_1_material">
<color rgba="0.89411764705882357251 0.91372549019607840481 0.92941176470588238168 1.0"/>
</material>
</visual>
<collision>
<origin xyz="0.0091750000000002940315 -0.0040000000000006141754 -0.032499999999999910905" rpy="0.043187700240529459939 -3.5932039344207654432e-16 1.57079632679489678" />
<geometry>
<mesh filename="package://biqu_go1_description/arm_meshes/gripper_1.stl"/>
</geometry>
</collision>
<visual>
<origin xyz="-0.00024968640208264392122 0.013499999999999054423 -0.016499999999999848121" rpy="1.570796326794871689 -1.5707963267948907848 0" />
<geometry>
<mesh filename="package://biqu_go1_description/arm_meshes/servo.stl"/>
</geometry>
<material name="servo_material">
<color rgba="0.61568627450980395466 0.81176470588235294379 0.92941176470588238168 1.0"/>
</material>
</visual>
<collision>
<origin xyz="-0.00024968640208264392122 0.013499999999999054423 -0.016499999999999848121" rpy="1.570796326794871689 -1.5707963267948907848 0" />
<geometry>
<mesh filename="package://biqu_go1_description/arm_meshes/servo.stl"/>
</geometry>
</collision>
<inertial>
<origin xyz="-0.0019691691678374255957 -0.0012056515638583780326 -0.05307171625105627788" rpy="0 0 0"/>
<mass value="0.045574572086383866032" />
<inertia ixx="7.0377054952081060236e-05" ixy="-6.2977673367866556081e-09"  ixz="-2.8157827238827543481e-06" iyy="7.5407102856481989981e-05" iyz="-8.4256578519192926494e-07" izz="6.9482496526636273771e-06" />
</inertial>
</link>

<joint name="j4" type="fixed">
<origin xyz="-0.11954000000000081227 1.3322676295501878485e-15 0.0089999999999997928879" rpy="1.5707963267948974462 0.28661171544860569727 1.5707963267948994446" />
<parent link="link3" />
<child link="gripper" />
<axis xyz="0 0 1"/>
<limit effort="1" velocity="20" />
<joint_properties friction="0.0"/>
</joint>

<joint name="j3" type="fixed">
<origin xyz="-0.20509002189797093108 -1.4672502470544634967e-05 0.090080000000000437499" rpy="3.141592653589788231 -1.9419648726808066193e-14 2.1321987590919362354" />
<parent link="link2" />
<child link="link3" />
<axis xyz="0 0 1"/>
<limit effort="1" velocity="20" />
<joint_properties friction="0.0"/>
</joint>

<joint name="j2" type="fixed">
<origin xyz="0.02464672915636164155 0.00019467250247003336366 -0.03309002189797083382" rpy="-1.570796326794896558 -1.2791473275524971598 1.5707963267950091346" />
<parent link="link1" />
<child link="link2" />
<axis xyz="0 0 1"/>
<limit effort="1" velocity="20" />
<joint_properties friction="0.0"/>
</joint>

<joint name="base_to_link1" type="fixed">
<origin xyz="-9.0021897970907725772e-05 -0.0011442452478826114701 0.10063457269783626646" rpy="3.141592653589793116 4.758088539404329584e-24 -0.21065212834965882371" />
<parent link="arm" />
<child link="link1" />
<axis xyz="0 0 1"/>
<limit effort="1" velocity="20" />
<joint_properties friction="0.0"/>
</joint>

<joint name="base_to_arm" type="fixed">
<origin xyz="-0.04 0 0.065" rpy="0 0 -1.5708" />
<parent link="base" />
<child link="arm" />
</joint>
</robot>
